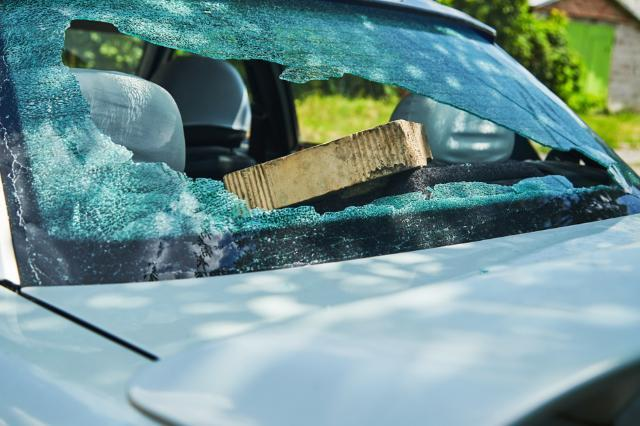Windshield: (0, 0, 633, 276)
